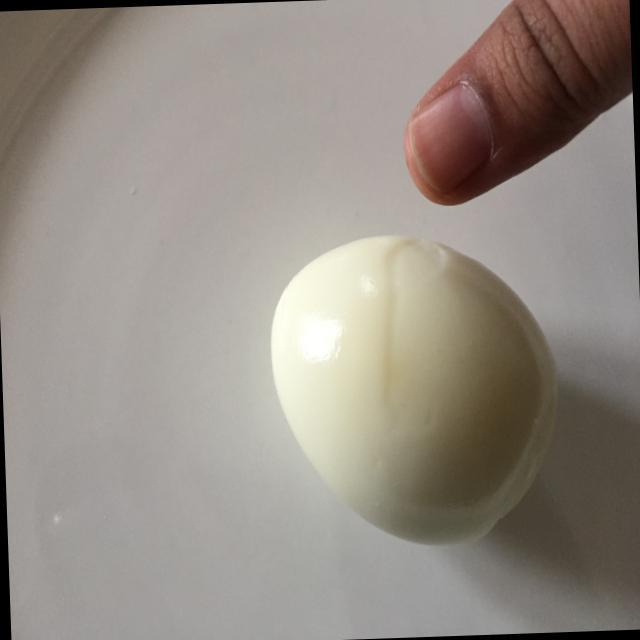Egg: (252, 220, 574, 560)
Finger: (385, 0, 617, 213)
